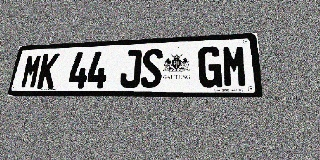4: (67, 52, 91, 88), (86, 51, 109, 88)
G: (198, 46, 222, 88)
J: (119, 49, 142, 88)
K: (36, 53, 60, 89)
M: (222, 45, 248, 88), (20, 54, 43, 89)
S: (140, 48, 163, 88)
